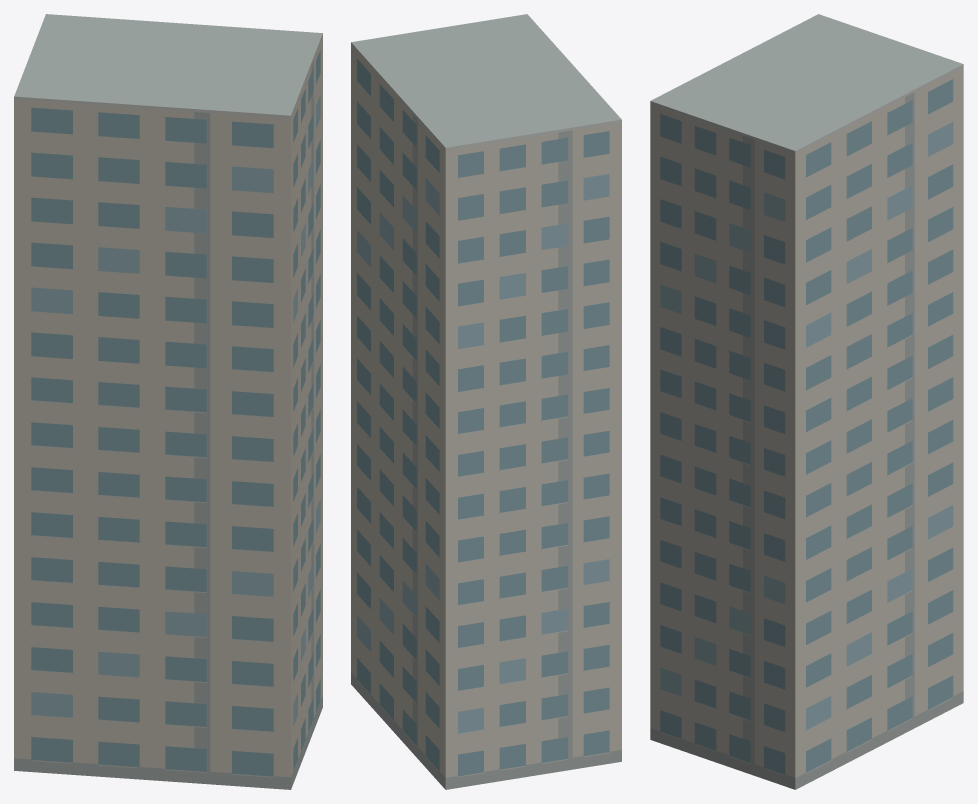
The model's file is residential-4535bcf7-38e7-4c58-9e5c-dce4ac2f2526.glb.
3 views of the same model, side by side, from view 1: azimuth 30°, elevation 25°; view 2: azimuth 150°, elevation 25°; view 3: azimuth 270°, elevation 25° (orthographic). The views are drawn at different scales.
Visible parts, largest first — view 1: residential-4535bcf7-38e7-4c58-9e5c-dce4ac2f2526.tmp; view 2: residential-4535bcf7-38e7-4c58-9e5c-dce4ac2f2526.tmp; view 3: residential-4535bcf7-38e7-4c58-9e5c-dce4ac2f2526.tmp.
Boxes of the visible parts, x1=… form: residential-4535bcf7-38e7-4c58-9e5c-dce4ac2f2526.tmp: x1=14, y1=14, x2=322, y2=789; residential-4535bcf7-38e7-4c58-9e5c-dce4ac2f2526.tmp: x1=351, y1=14, x2=621, y2=789; residential-4535bcf7-38e7-4c58-9e5c-dce4ac2f2526.tmp: x1=650, y1=14, x2=963, y2=789.
Size of the model in its own units: 25.79 by 56 by 24.91.
